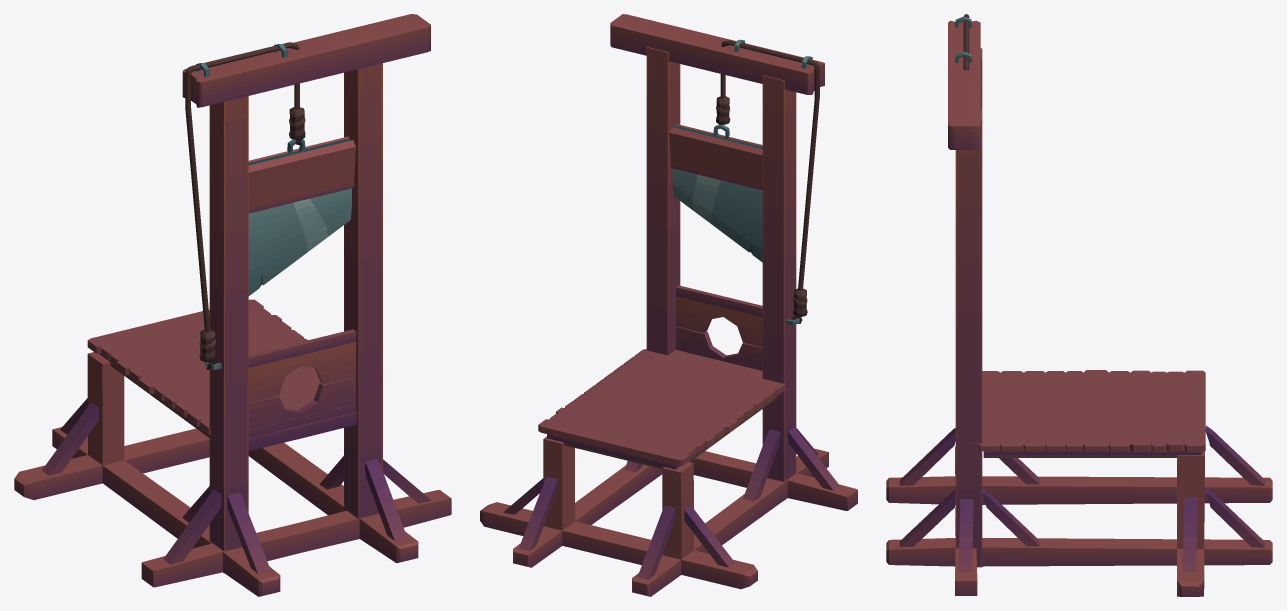
The model's file is Guilotine.fbx.
The picture shows the model from 3 angles, left to right: view 1: azimuth 30°, elevation 25°; view 2: azimuth 150°, elevation 25°; view 3: azimuth 270°, elevation 25°; orthographic projection. The views are drawn at different scales.
Visible parts, largest first — view 1: Guillotine; view 2: Guillotine; view 3: Guillotine.
Part boxes in pixels (x1=…): Guillotine: x1=14, y1=14, x2=451, y2=596; Guillotine: x1=480, y1=14, x2=857, y2=596; Guillotine: x1=886, y1=14, x2=1272, y2=596.
Bounding box in the file's own units: 7.19 × 11.24 × 8.34.
